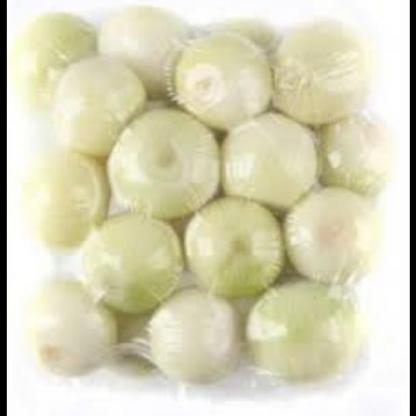onion: (12, 11, 401, 398)
